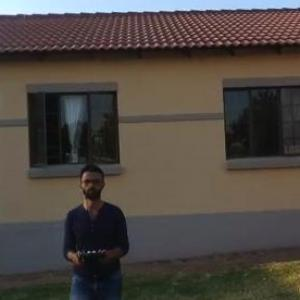follow: (58, 159, 134, 299)
